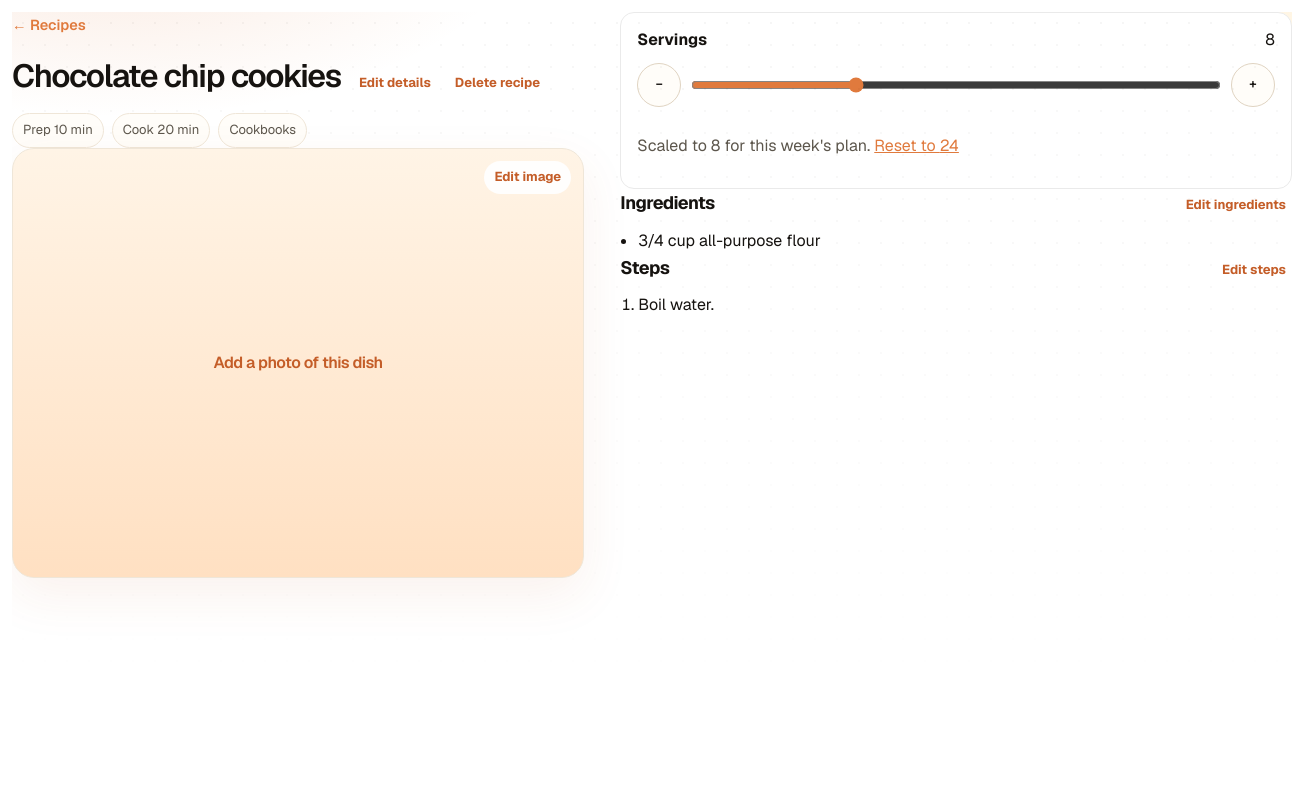
it: RecipeDetail default servings › opens from a plan at that week's cook-for, then resets to the card yield
Expected: the element with test id "scaled-servings-note" shows "Scaled to 8 for this week's plan", [637,135,867,156]
Expected: the list item "3/4 cup all-purpose flour" is shown, [638,230,821,251]
Click the button "Reset to 24" at coordinates (917, 145), box [874,133,959,158]
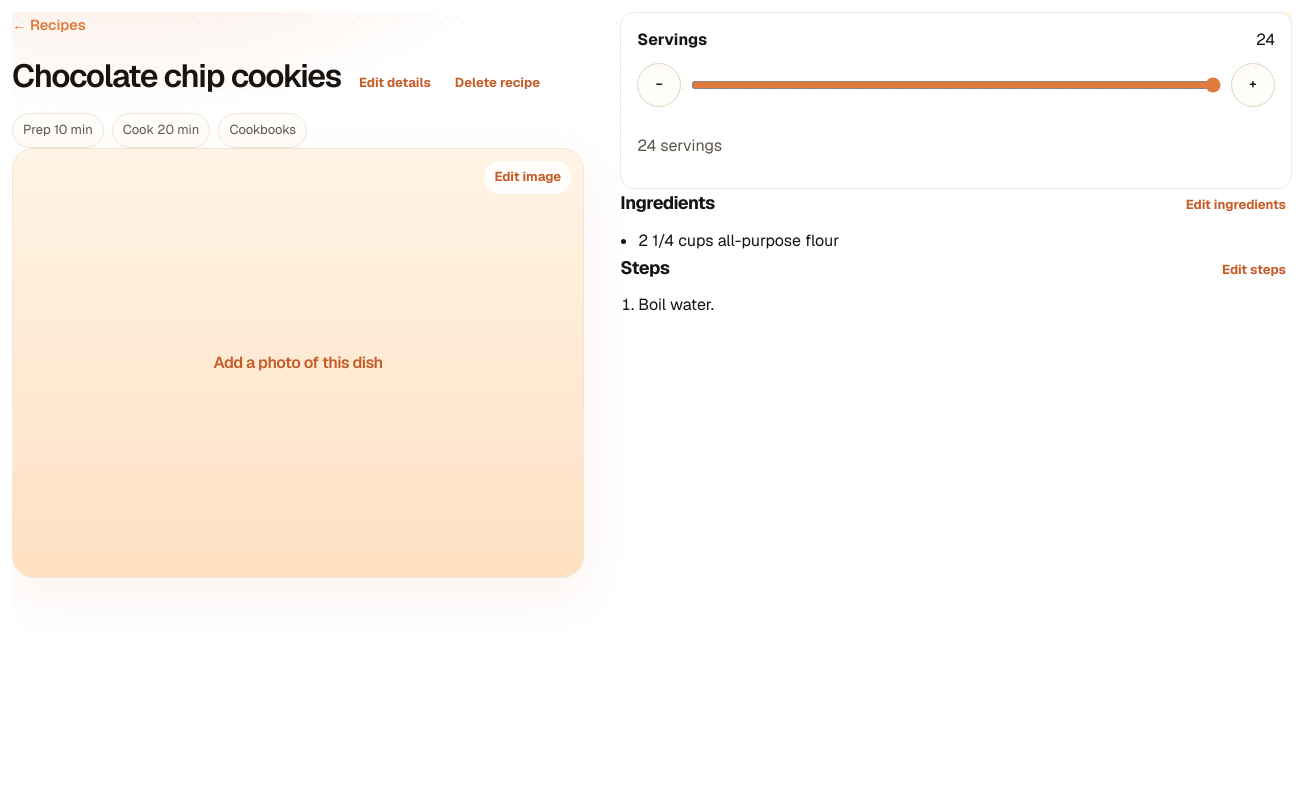
Now the list item "2 1/4 cups all-purpose flour" is shown, box [638,230,839,251]
Now the text with test id "scaled-servings-note" reads "24 servings", box [637,135,722,156]
